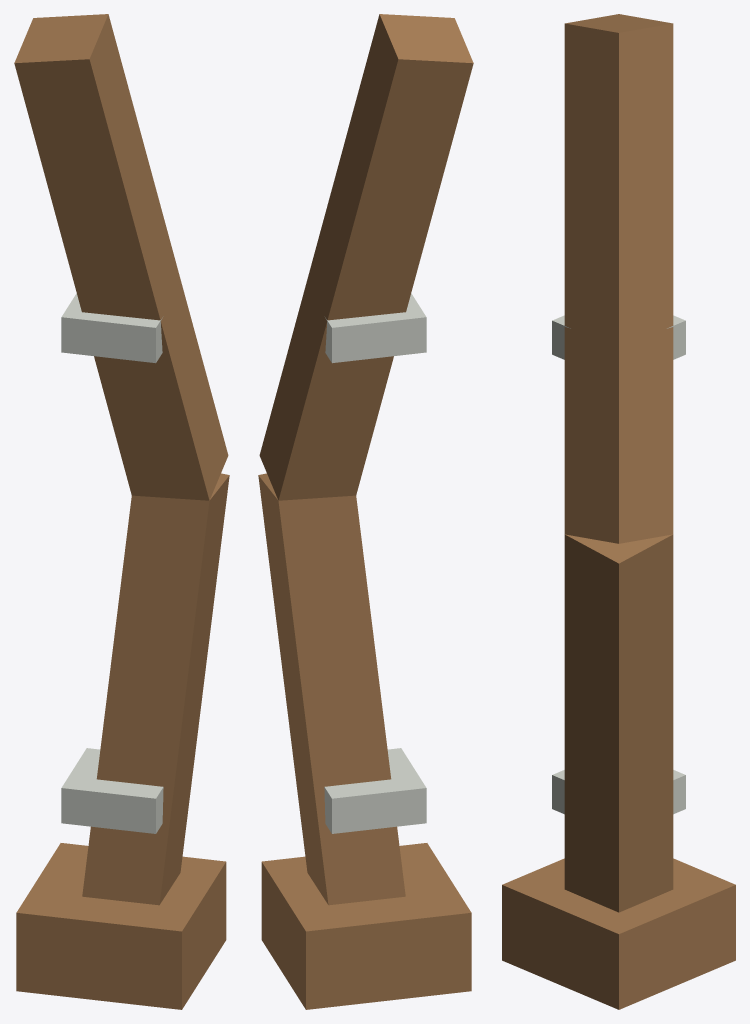
Rendered from Marsh_SignPost.fbx.
The picture shows the model from 3 angles, left to right: view 1: azimuth 30°, elevation 25°; view 2: azimuth 150°, elevation 25°; view 3: azimuth 270°, elevation 25°; orthographic projection. The views are drawn at different scales.
Visible parts, largest first — view 1: Marsh_SignPost; view 2: Marsh_SignPost; view 3: Marsh_SignPost.
Boxes of the visible parts, left/top/right/bottom form: Marsh_SignPost: left=14, top=14, right=229, bottom=1009; Marsh_SignPost: left=258, top=14, right=473, bottom=1009; Marsh_SignPost: left=502, top=14, right=735, bottom=1009.
Bounding box in the file's own units: 28.72 × 123 × 28.
